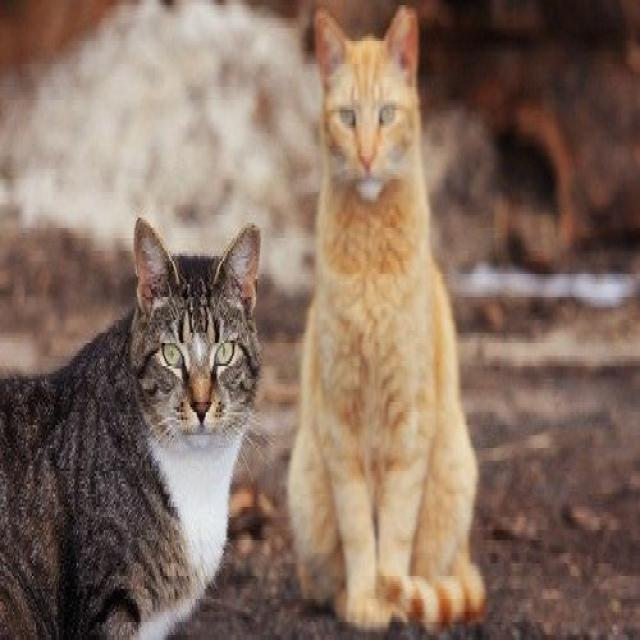cat: (289, 8, 485, 626), (0, 218, 260, 638)
